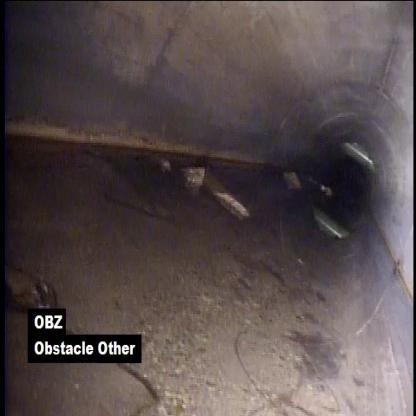jntoffs: (158, 146, 258, 224)
